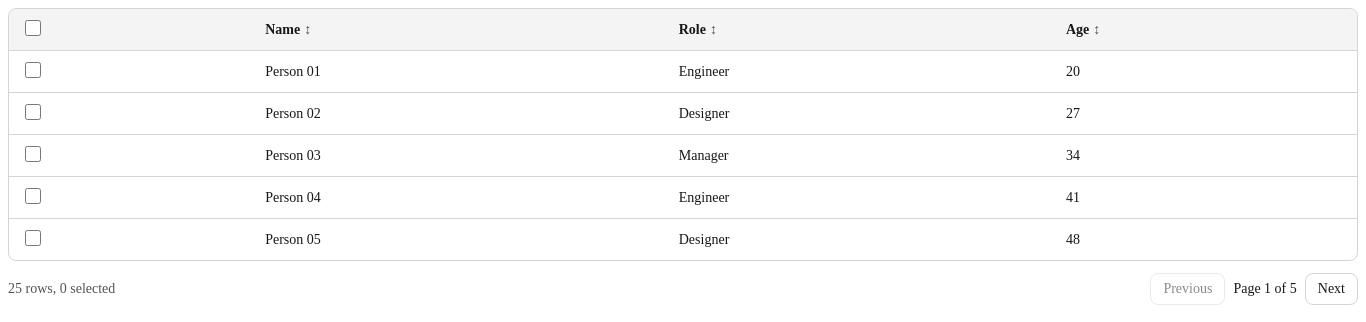
Test: DataTable › row selection with a tri-state header box reports selected rows
The image size is (1366, 322).
Click the checkbox named "Select row 2". click: (33, 112)
box: [25, 104, 41, 120]
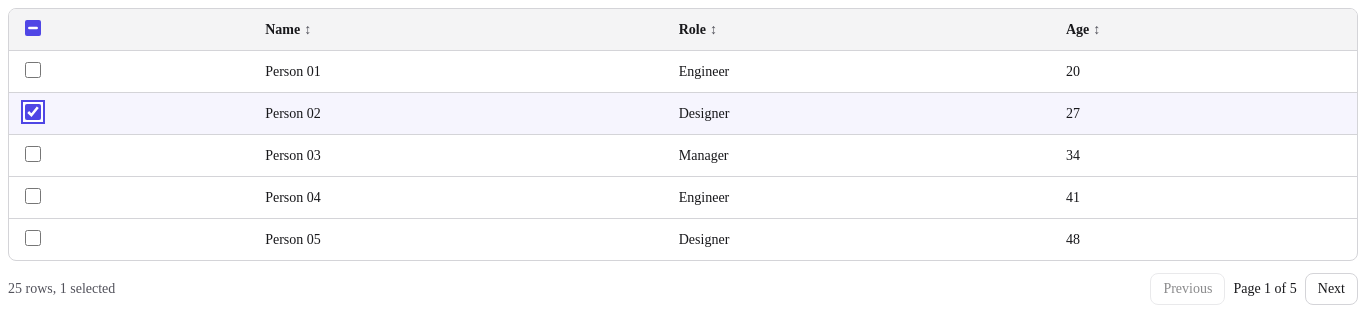
Expected: the row "Person 02 Designer 27" is selected, [9, 92, 1357, 134]
Click the checkbox named "Select all rows on this page". click: (33, 28)
box: [25, 20, 41, 36]
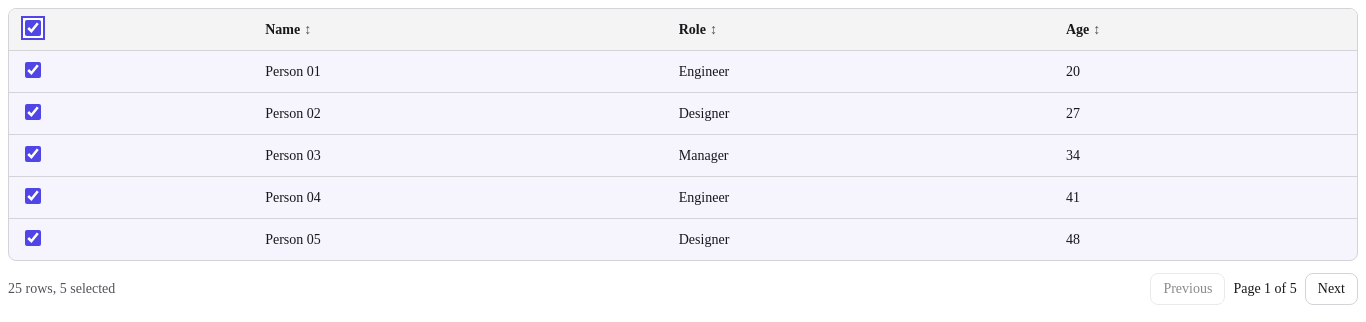
Expected: the message reads "25 rows, 5 selected", [8, 279, 115, 299]
